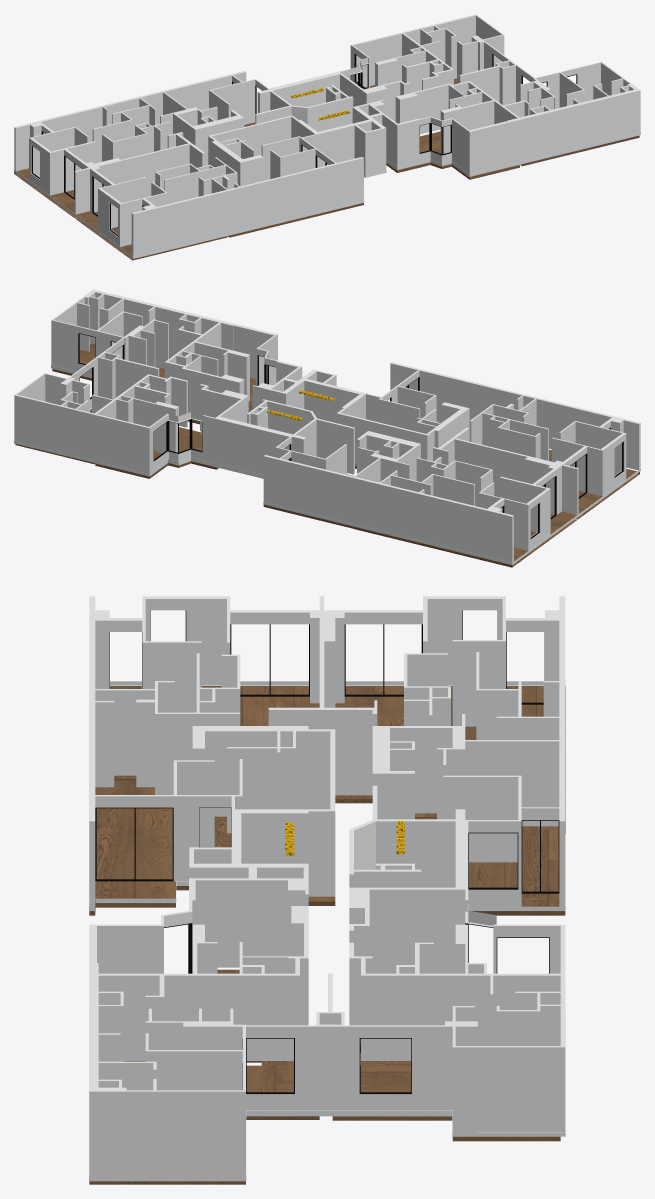
Rendered from PISO-4.glb.
3 renders of one model, top to bottom at view 1: azimuth 30°, elevation 25°; view 2: azimuth 150°, elevation 25°; view 3: azimuth 270°, elevation 25°, orthographic. The views are drawn at different scales.
Visible parts, largest first — view 1: walls-parent, tipo-8-parent, tipo-2-parent, tipo-3-parent, tipo-1-parent; view 2: walls-parent, tipo-3-parent, tipo-5-parent, tipo-2-parent, tipo-7-parent; view 3: walls-parent, tipo-1-parent, tipo-4-parent, tipo-3-parent, tipo-14-parent, tipo-2-parent, tipo-7-parent.
Boxes of the visible parts, bbox=[...] form: walls-parent: bbox=[14, 14, 640, 258]; tipo-8-parent: bbox=[386, 131, 519, 179]; tipo-2-parent: bbox=[75, 211, 227, 260]; tipo-3-parent: bbox=[14, 168, 90, 217]; tipo-1-parent: bbox=[228, 203, 363, 237]; walls-parent: bbox=[14, 289, 640, 564]; tipo-3-parent: bbox=[353, 513, 576, 567]; tipo-5-parent: bbox=[95, 427, 218, 478]; tipo-2-parent: bbox=[494, 450, 639, 519]; tipo-7-parent: bbox=[52, 343, 171, 380]; walls-parent: bbox=[89, 596, 565, 1181]; tipo-1-parent: bbox=[89, 780, 335, 915]; tipo-4-parent: bbox=[415, 818, 565, 915]; tipo-3-parent: bbox=[335, 686, 565, 833]; tipo-14-parent: bbox=[332, 1065, 560, 1141]; tipo-2-parent: bbox=[110, 686, 319, 780]; tipo-7-parent: bbox=[89, 1065, 319, 1184].
Size of what is drawn, in the model's own units: 37.42 by 3.59 by 15.23.
12 materials, 10 textured.
